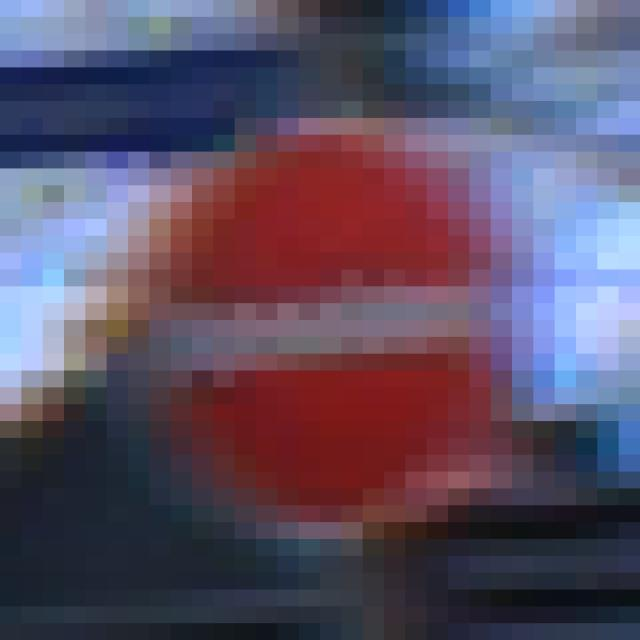No Entry: (108, 85, 534, 557)
